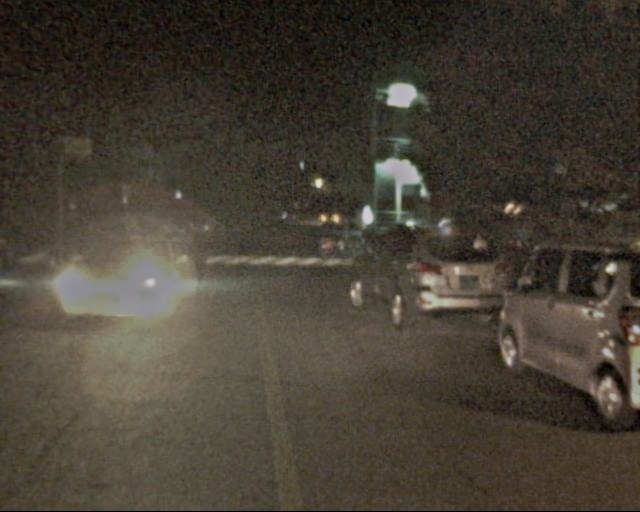person: (358, 226, 379, 276), (125, 215, 144, 262)
